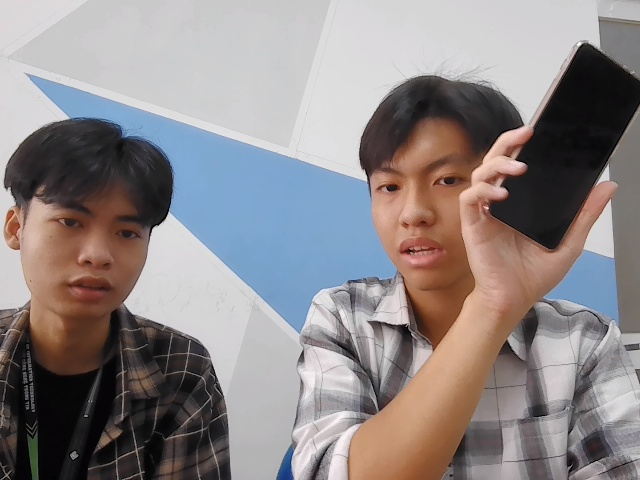human: (353, 68, 533, 291), (3, 112, 186, 323)
phone: (497, 18, 640, 263)
